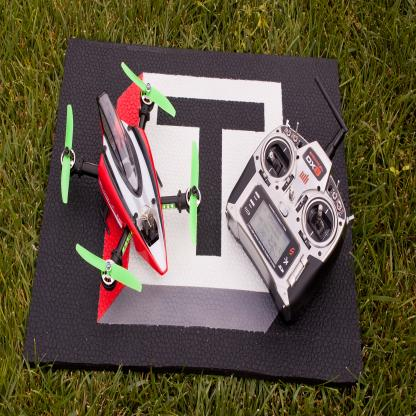drone: (46, 72, 218, 306)
